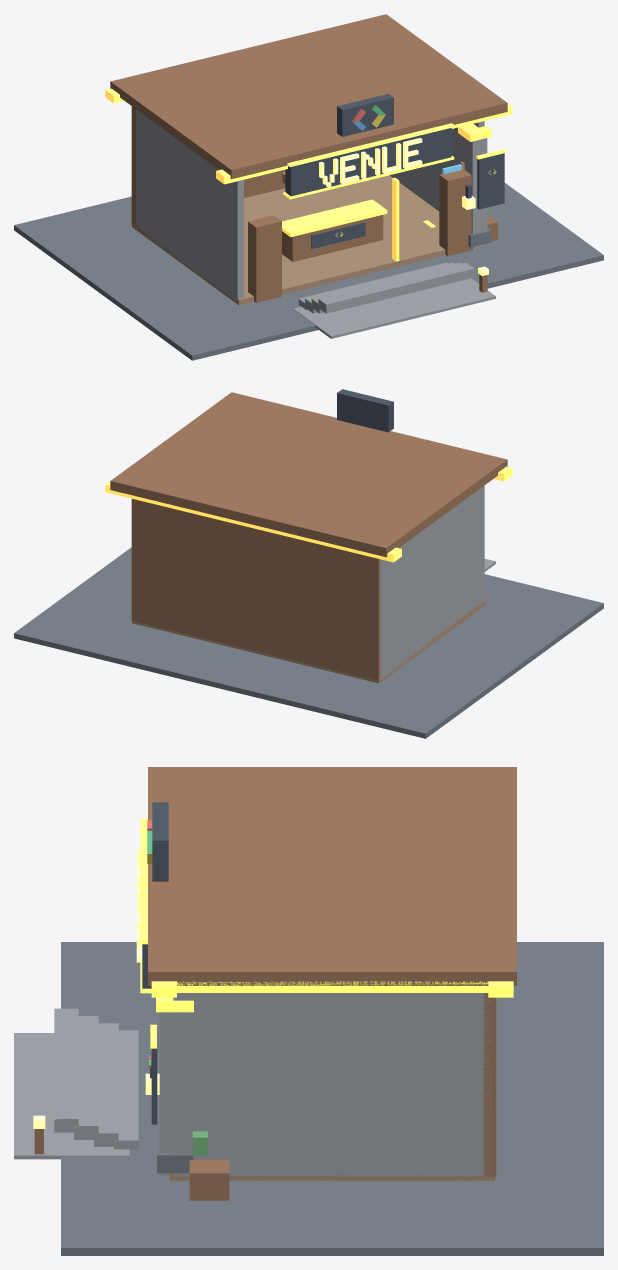
The model's file is gdg_labyrinth_venue_building.glb.
3 views of the same model, one above another, from view 1: azimuth 30°, elevation 25°; view 2: azimuth 150°, elevation 25°; view 3: azimuth 270°, elevation 25° (orthographic). The views are drawn at different scales.
Visible parts, largest first — view 1: Roof_main_slab, Venue_ground_plinth, Left_wall, Interior_floor, Front_approach_path, VENUE_sign_backboard, Front_left_wall, Entrance_stair_3, Front_right_wall, Reception_desk, Reception_counter_top, Right_wall (+9 smaller); view 2: Roof_main_slab, Venue_ground_plinth, Rear_wall, Left_wall, GDG_crown_plaque, Roof_back_eave, Interior_floor; view 3: Roof_main_slab, Venue_ground_plinth, Right_wall, Front_approach_path, Roof_side_eave, Entrance_stair_3, Entrance_stair_1, Entrance_stair_2, Entrance_stair_0, Rear_wall, Front_facade_pillar, Exterior_planter (+4 smaller).
Boxes of the visible parts, left/top/right/bottom form: Roof_main_slab: left=110, top=14, right=507, bottom=178; Venue_ground_plinth: left=14, top=183, right=603, bottom=360; Left_wall: left=133, top=109, right=243, bottom=301; Interior_floor: left=132, top=175, right=445, bottom=305; Front_approach_path: left=293, top=278, right=495, bottom=338; VENUE_sign_backboard: left=285, top=128, right=451, bottom=196; Front_left_wall: left=248, top=215, right=281, bottom=302; Entrance_stair_3: left=318, top=262, right=474, bottom=313; Front_right_wall: left=439, top=170, right=473, bottom=256; Reception_desk: left=282, top=215, right=383, bottom=261; Reception_counter_top: left=282, top=199, right=387, bottom=237; Right_wall: left=390, top=121, right=484, bottom=211; Roof_main_slab: left=110, top=392, right=507, bottom=557; Venue_ground_plinth: left=14, top=547, right=603, bottom=738; Rear_wall: left=131, top=499, right=382, bottom=680; Left_wall: left=380, top=485, right=484, bottom=679; GDG_crown_plaque: left=337, top=389, right=393, bottom=432; Roof_back_eave: left=105, top=481, right=401, bottom=562; Interior_floor: left=132, top=599, right=485, bottom=683; Roof_main_slab: left=148, top=767, right=516, bottom=985; Venue_ground_plinth: left=61, top=942, right=603, bottom=1255; Right_wall: left=173, top=993, right=491, bottom=1176; Front_approach_path: left=14, top=1033, right=129, bottom=1159; Roof_side_eave: left=177, top=981, right=488, bottom=992; Entrance_stair_3: left=54, top=1008, right=78, bottom=1132; Entrance_stair_1: left=94, top=1023, right=118, bottom=1146; Entrance_stair_2: left=74, top=1016, right=98, bottom=1139; Entrance_stair_0: left=114, top=1030, right=138, bottom=1149; Rear_wall: left=483, top=993, right=496, bottom=1176; Front_facade_pillar: left=159, top=1012, right=173, bottom=1175; Exterior_planter: left=189, top=1159, right=229, bottom=1200.
Bounding box in the file's own units: 20 × 8.57 × 16.3.
